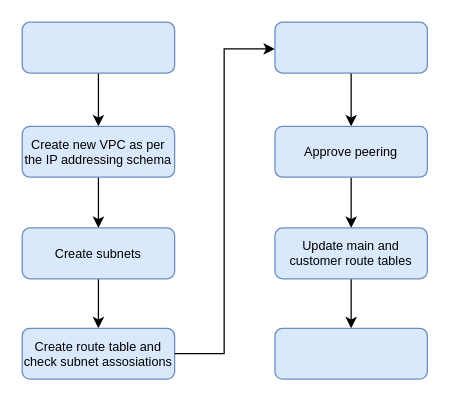
Image size: 450x401. Some labels were removed from this diagram. The shapes that lost their labels are listed below. From the top down, each one's centre as x and y in pixels, then its label:
the point at 98,47: Prepare customer onboarding template
the point at 350,47: Create VPC peering between main and customer VPC
the point at 350,353: Test traffic flow between main and customer VPC
